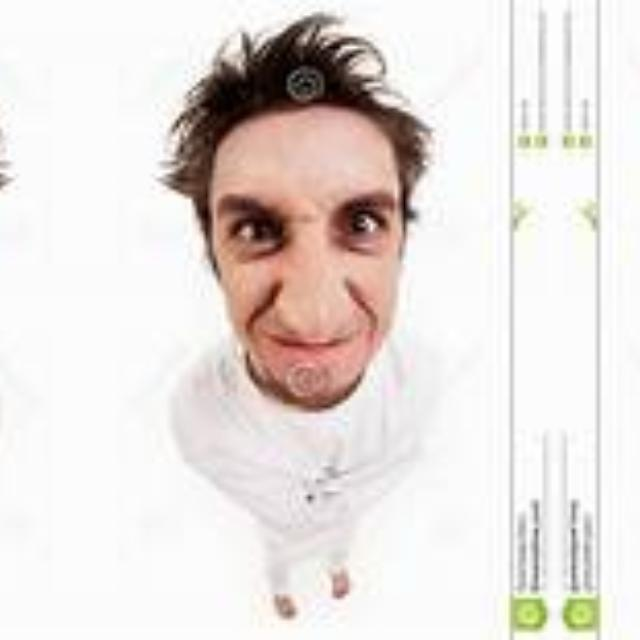person: (130, 33, 498, 627), (0, 33, 37, 627), (612, 33, 640, 627)
